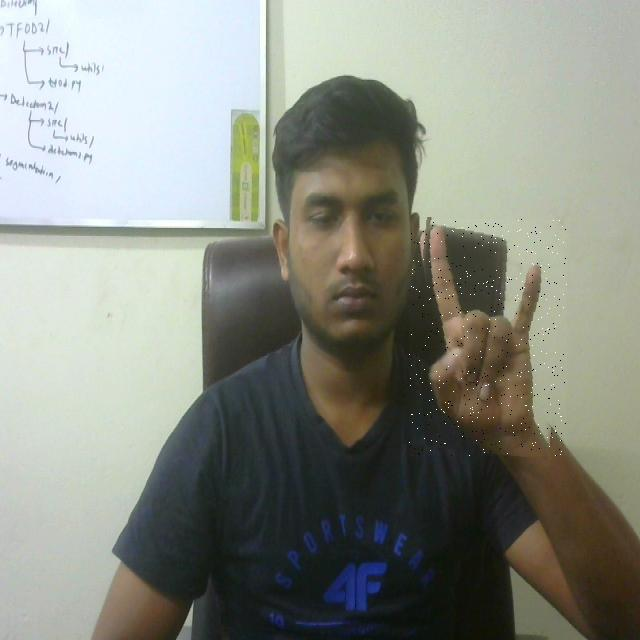IloveYou: (409, 219, 567, 456)
